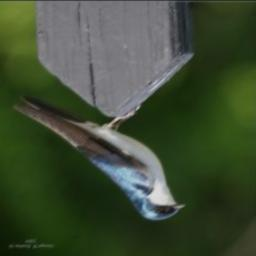Swallow: (12, 95, 187, 221)
